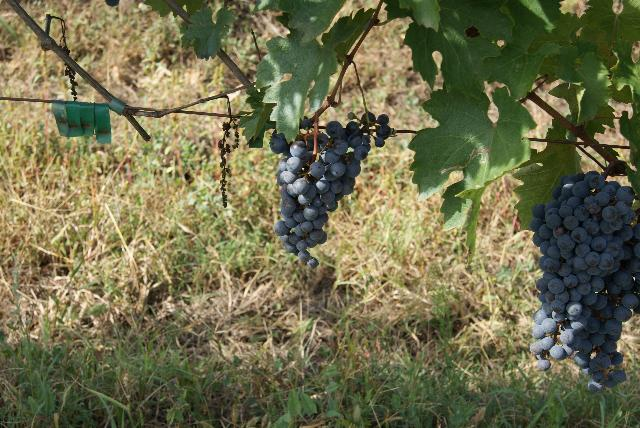grapes: (530, 170, 636, 391), (270, 111, 396, 268), (341, 112, 392, 175)
